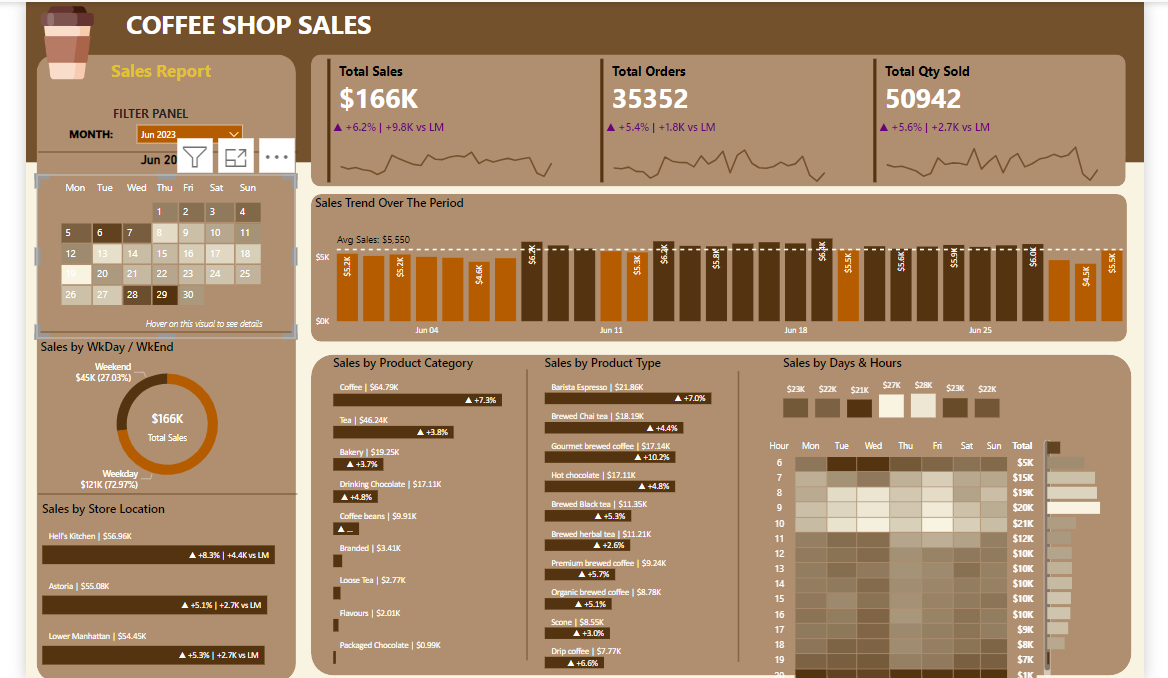

This screenshot's page, from the dashboard's own definition file:
{"tool":"powerbi","page":{"name":"Page 1","canvas":[1400,850],"ordinal":0},"visuals":[{"type":"shape","box":[0,0,1400.8,200.9],"z":0},{"type":"shape","box":[13.1,65.7,324.9,784.9],"z":1000},{"type":"shape","box":[356.8,65.7,1020,165.2],"z":2000},{"type":"textbox","box":[120.2,0,332.4,62],"z":3000},{"type":"cardVisual","fields":{"Data":["Transactions.Total Sales"]},"box":[371.8,65.7,300.4,165.2],"z":4000,"group":"g1"},{"type":"slicer","fields":{"Values":["Date Table.Month_Year"]},"box":[133.3,148.3,142.7,31.9],"z":4000},{"type":"group","id":"g1","title":"Group 1","box":[371.8,65.7,300.4,165.2],"z":5000},{"type":"cardVisual","fields":{"Data":["Transactions.Total Qty Sold"]},"box":[1055.3,65.7,300.4,165.2],"z":5000,"group":"g3"},{"type":"group","id":"g2","title":"Group 2","box":[713.6,65.7,300.4,165.2],"z":6000},{"type":"cardVisual","fields":{"Data":["Transactions.Total Orders"]},"box":[713.6,65.7,300.4,165.2],"z":6000,"group":"g2"},{"type":"group","id":"g3","title":"Group 3","box":[1055.3,65.7,300.4,165.2],"z":7000},{"type":"lineChart","fields":{"Y":["Transactions.Total Sales"],"Category":["Date Table.Date Hierarchy.Date"]},"box":[379.3,146.4,292.9,84.5],"z":8000,"group":"g1"},{"type":"pivotTable","fields":{"Rows":["Date Table.Week_No"],"Columns":["Date Table.Day_Name"],"Values":["Min(Date Table.Day_No)"]},"box":[13.1,215.9,324.9,204.7],"z":8000},{"type":"lineChart","fields":{"Category":["Date Table.Date Hierarchy.Date"],"Y":["Transactions.Total Qty Sold"]},"box":[1062.8,146.4,292.9,84.5],"z":9000,"group":"g3"},{"type":"card","fields":{"Values":["Min(Date Table.Month_Year)"]},"box":[103.3,180.3,142.7,35.7],"z":9000},{"type":"lineChart","fields":{"Category":["Date Table.Date Hierarchy.Date"],"Y":["Transactions.Total Orders"]},"box":[721.1,146.4,292.9,84.5],"z":10000,"group":"g2"},{"type":"card","fields":{"Values":["Transactions.Foot_Note"]},"box":[120.2,388.7,204.7,31.9],"z":10000},{"type":"shape","box":[13.1,405.6,324.9,15],"z":11000},{"type":"shape","box":[15,180.3,324.9,15],"z":12000},{"type":"donutChart","title":"Sales by WkDay / WkEnd","fields":{"Category":["Date Table.WkDay / WkEnd"],"Y":["Transactions.Total Sales"]},"box":[13.1,420.6,326.7,195.3],"z":13000},{"type":"card","fields":{"Values":["Transactions.Total Sales"]},"box":[133.3,505.1,86.4,50.7],"z":14000},{"type":"shape","box":[15,608.4,324.9,15],"z":15000},{"type":"clusteredBarChart","title":"Sales by Store Location","fields":{"Category":["Transactions.store_location"],"Y":["Transactions.Placeholder","Transactions.Total Sales"]},"box":[15,623.4,324.9,214.1],"z":16000},{"type":"shape","box":[356.8,240.4,1021.5,185],"z":17000},{"type":"columnChart","title":"Sales Trend Over The Period","fields":{"Category":["Transactions.transaction_date"],"Y":["Transactions.Total Sales"]},"box":[356.8,240.4,1021.5,185.9],"z":18000},{"type":"shape","box":[356.8,441.3,1027.2,401.9],"z":19000},{"type":"clusteredBarChart","title":"Sales by Product Category","fields":{"Y":["Transactions.Placeholder","Transactions.Total Sales"],"Category":["Transactions.product_category"]},"box":[378.7,440.7,247.9,392.5],"z":20000},{"type":"shape","box":[615.9,460.1,22.5,364.3],"z":21000},{"type":"clusteredBarChart","title":"Sales by Product Type","fields":{"Y":["Transactions.Placeholder","Transactions.Total Sales"],"Category":["Transactions.product_type"]},"box":[644.1,441.3,247.9,398.1],"z":22000},{"type":"shape","box":[880.7,461.9,22.5,364.3],"z":23000},{"type":"pivotTable","fields":{"Rows":["Transactions.Hour"],"Columns":["Date Table.Day_Name"],"Values":["Transactions.Total Sales"]},"box":[903.2,525.8,369.9,308],"z":24000},{"type":"barChart","fields":{"Category":["Transactions.Hour"],"Y":["Transactions.Total Sales"]},"box":[1273.2,537.1,103.3,296.7],"z":25000},{"type":"columnChart","title":"Sales by Days & Hours","fields":{"Y":["Transactions.Total Sales"],"Category":["Date Table.Day_Name"]},"box":[942.7,441.3,281.7,84.5],"z":26000},{"type":"textbox","box":[48.8,150.2,84.5,30],"z":27000},{"type":"textbox","box":[92,65.7,154,39.4],"z":28000},{"type":"textbox","box":[92,123.9,127.7,41.3],"z":29000},{"type":"image","box":[0,0,103.3,101.4],"z":30000}]}

Visuals, with their boxes on the page's 1400x850 design canvas (x1, y1, x2, y2). These are canvas units, not pixel positions in the 1168x678 screenshot, which may show the page scaled, cropped or inside an application window:
shape: 0, 0, 1401, 201
shape: 13, 66, 338, 851
shape: 357, 66, 1377, 231
textbox: 120, 0, 453, 62
cardVisual - Transactions.Total Sales: 372, 66, 672, 231
slicer - Date Table.Month_Year: 133, 148, 276, 180
"Group 1" group: 372, 66, 672, 231
cardVisual - Transactions.Total Qty Sold: 1055, 66, 1356, 231
"Group 2" group: 714, 66, 1014, 231
cardVisual - Transactions.Total Orders: 714, 66, 1014, 231
"Group 3" group: 1055, 66, 1356, 231
lineChart - Transactions.Total Sales x Date Table.Date Hierarchy.Date: 379, 146, 672, 231
pivotTable - Date Table.Week_No x Date Table.Day_Name: 13, 216, 338, 421
lineChart - Date Table.Date Hierarchy.Date x Transactions.Total Qty Sold: 1063, 146, 1356, 231
card - Min(Date Table.Month_Year): 103, 180, 246, 216
lineChart - Date Table.Date Hierarchy.Date x Transactions.Total Orders: 721, 146, 1014, 231
card - Transactions.Foot_Note: 120, 389, 325, 421
shape: 13, 406, 338, 421
shape: 15, 180, 340, 195
"Sales by WkDay / WkEnd" donutChart: 13, 421, 340, 616
card - Transactions.Total Sales: 133, 505, 220, 556
shape: 15, 608, 340, 623
"Sales by Store Location" clusteredBarChart: 15, 623, 340, 838
shape: 357, 240, 1378, 425
"Sales Trend Over The Period" columnChart: 357, 240, 1378, 426
shape: 357, 441, 1384, 843
"Sales by Product Category" clusteredBarChart: 379, 441, 627, 833
shape: 616, 460, 638, 824
"Sales by Product Type" clusteredBarChart: 644, 441, 892, 839
shape: 881, 462, 903, 826
pivotTable - Transactions.Hour x Date Table.Day_Name: 903, 526, 1273, 834
barChart - Transactions.Hour x Transactions.Total Sales: 1273, 537, 1376, 834
"Sales by Days & Hours" columnChart: 943, 441, 1224, 526
textbox: 49, 150, 133, 180
textbox: 92, 66, 246, 105
textbox: 92, 124, 220, 165
image: 0, 0, 103, 101
